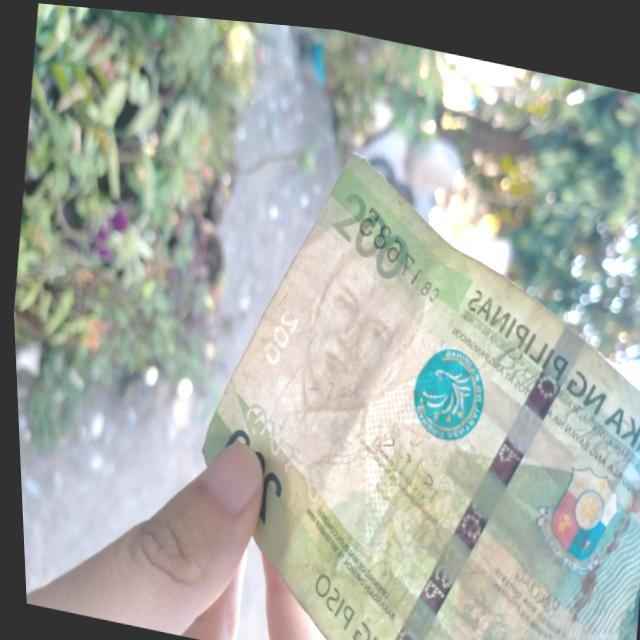security_thread: (356, 283, 600, 640)
see_through_mark: (224, 388, 338, 506)
serial_number: (342, 196, 453, 301)
value_watermark: (249, 295, 300, 372)
watermark: (260, 205, 449, 505)
